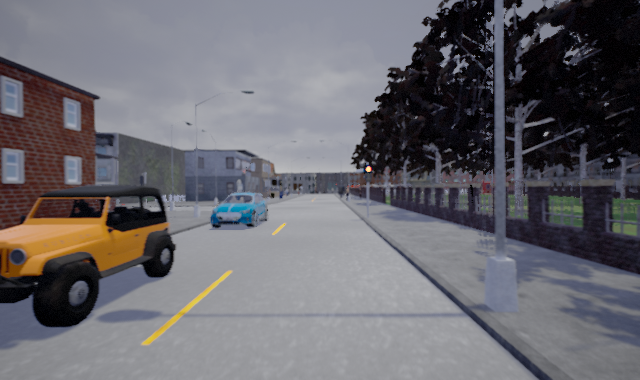vehicle: (1, 182, 176, 329), (209, 190, 272, 229)
